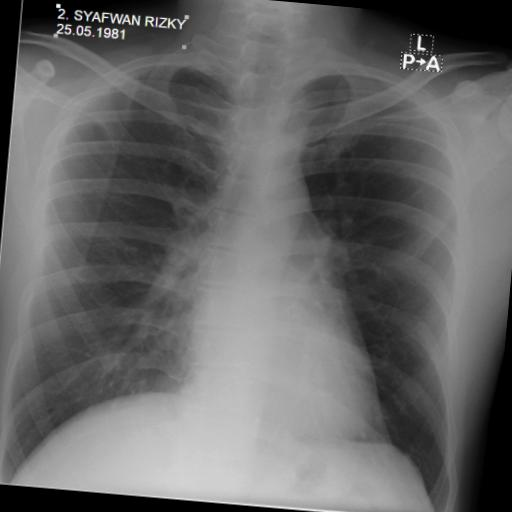normal: (0, 13, 499, 512)
